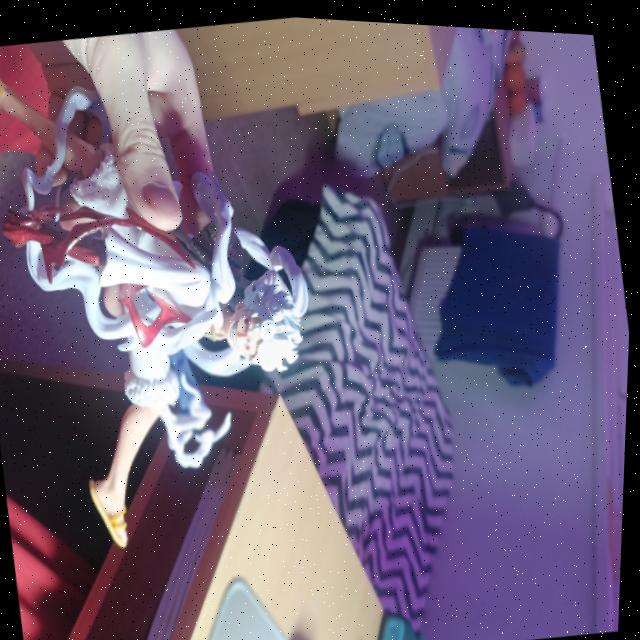luffy: (0, 1, 368, 601)
